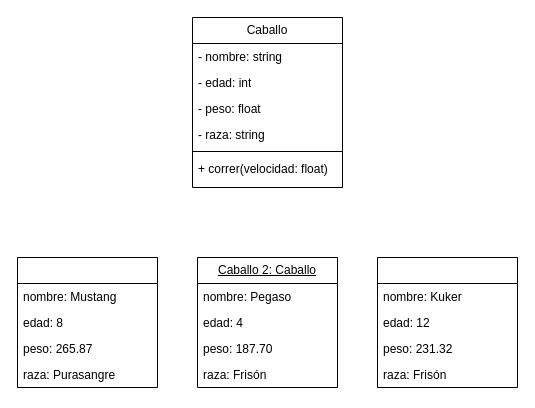
Some shapes in this 535 by 408 pixel diagram are drawn without their labels. The box of each missing label's shape, as (x1, y1, x2, y2) in pixels:
Caballo 1: Caballo: (16, 256, 158, 388)
Caballo 3: Caballo: (376, 256, 518, 388)
